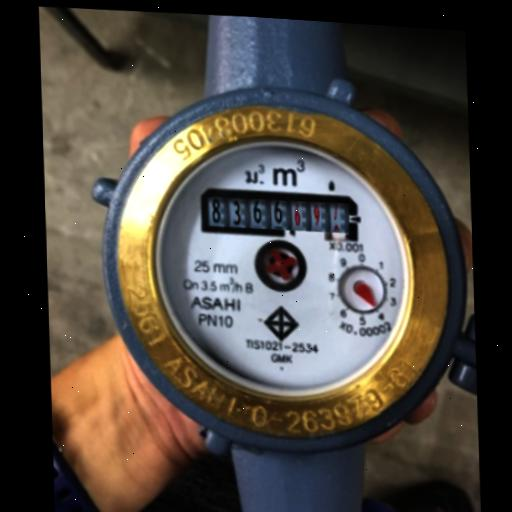3: (228, 199, 244, 228)
6: (270, 198, 286, 229), (249, 198, 265, 227), (290, 202, 306, 231)
7: (329, 203, 345, 232)
8: (207, 196, 225, 227)
9: (309, 201, 325, 232)
border_water_meter_number: (199, 184, 359, 244)
